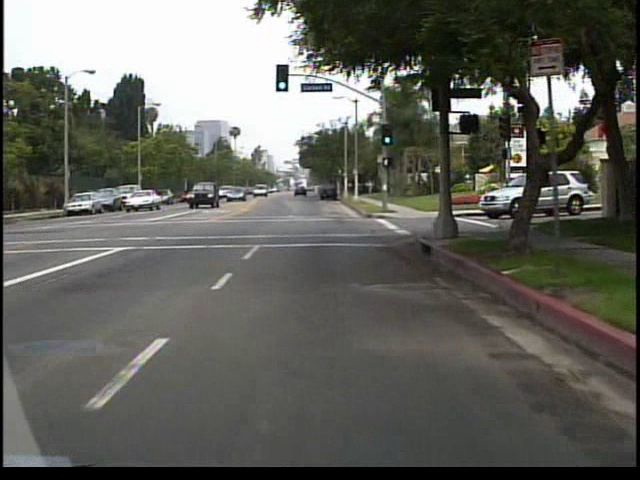person: (357, 176, 366, 199), (368, 176, 376, 195)
